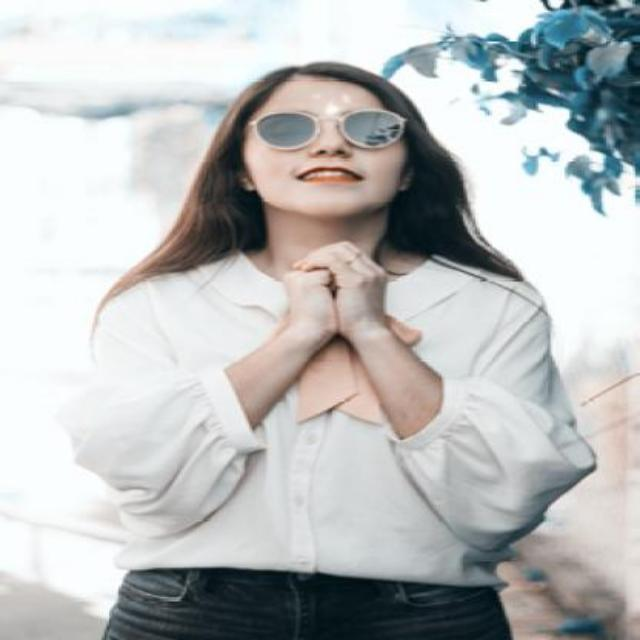sunglasses: (247, 108, 407, 148)
